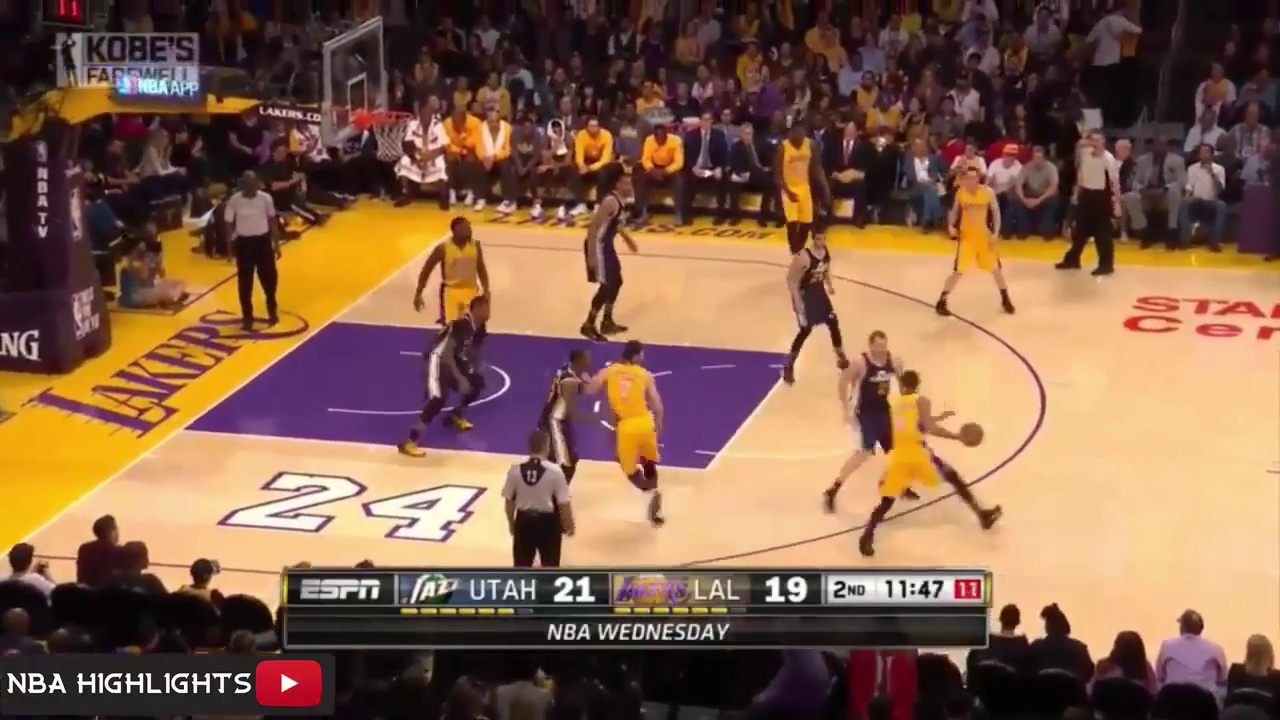jazz: (400, 296, 497, 457), (823, 337, 900, 513), (582, 170, 636, 343), (783, 226, 838, 389), (537, 350, 595, 502)
lakers: (858, 367, 1004, 554), (592, 337, 678, 517), (931, 169, 1028, 318), (414, 210, 491, 317), (777, 126, 831, 249)
